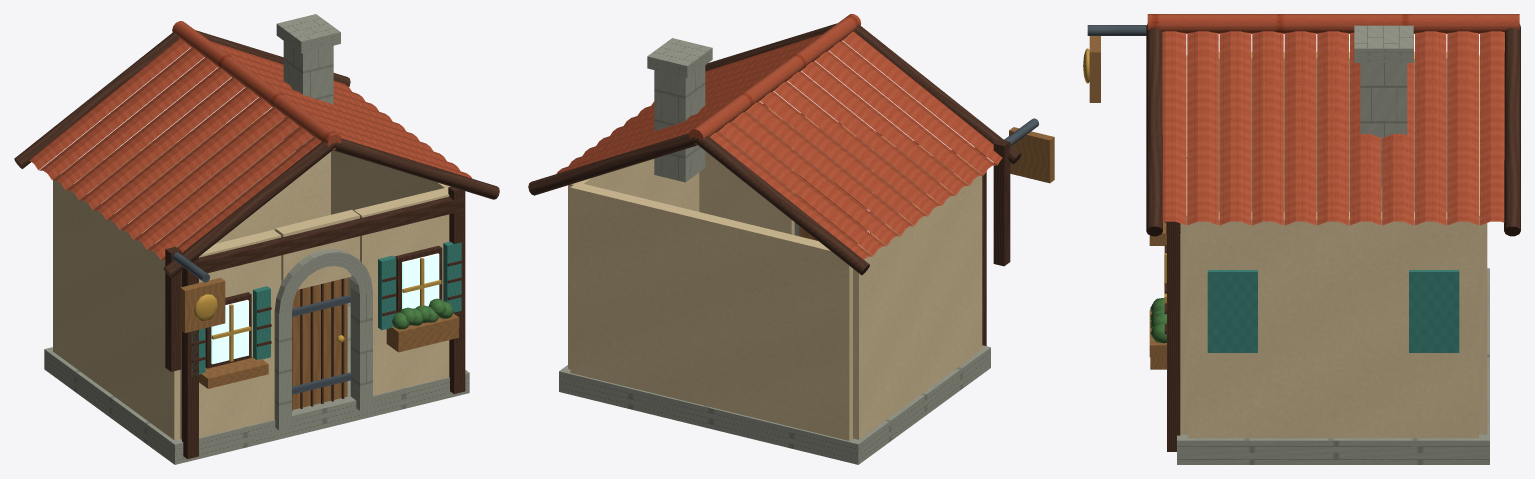
File: inn.glb
The picture shows the model from 3 angles, left to right: view 1: azimuth 30°, elevation 25°; view 2: azimuth 150°, elevation 25°; view 3: azimuth 270°, elevation 25°; orthographic projection. The views are drawn at different scales.
Visible parts, largest first — view 1: inn; view 2: inn; view 3: inn.
Boxes of the visible parts, x1=… form: inn: x1=14, y1=14, x2=499, y2=464; inn: x1=528, y1=14, x2=1054, y2=464; inn: x1=1083, y1=14, x2=1520, y2=464.
Bounding box in the file's own units: 4.21 × 3.79 × 3.92.
Materials: 10 (10 with a texture image).
